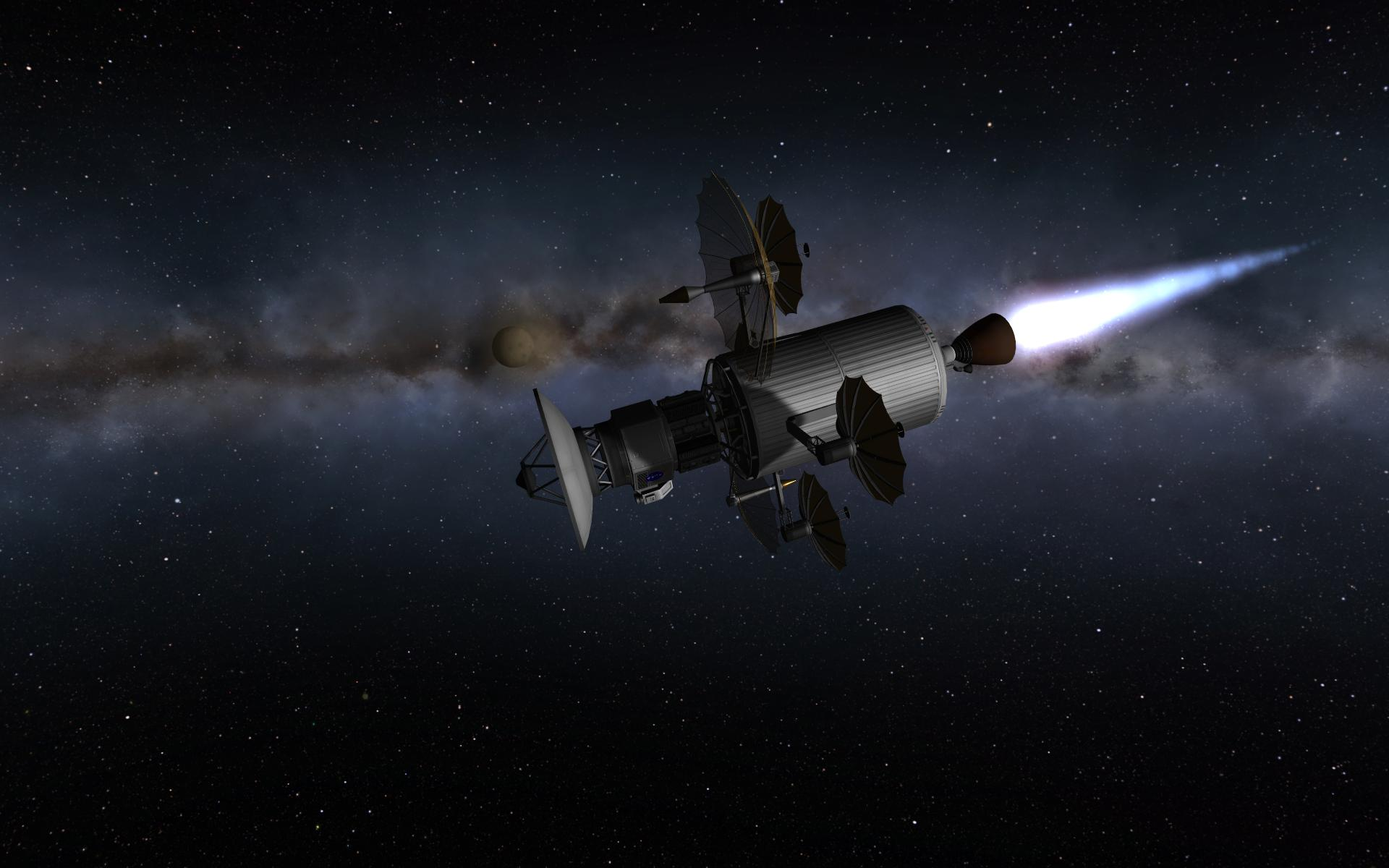antenna: (655, 169, 779, 386), (513, 386, 598, 554), (833, 373, 910, 509), (724, 454, 800, 557), (754, 190, 812, 318), (795, 469, 855, 573)
thruster: (951, 311, 1019, 367)
